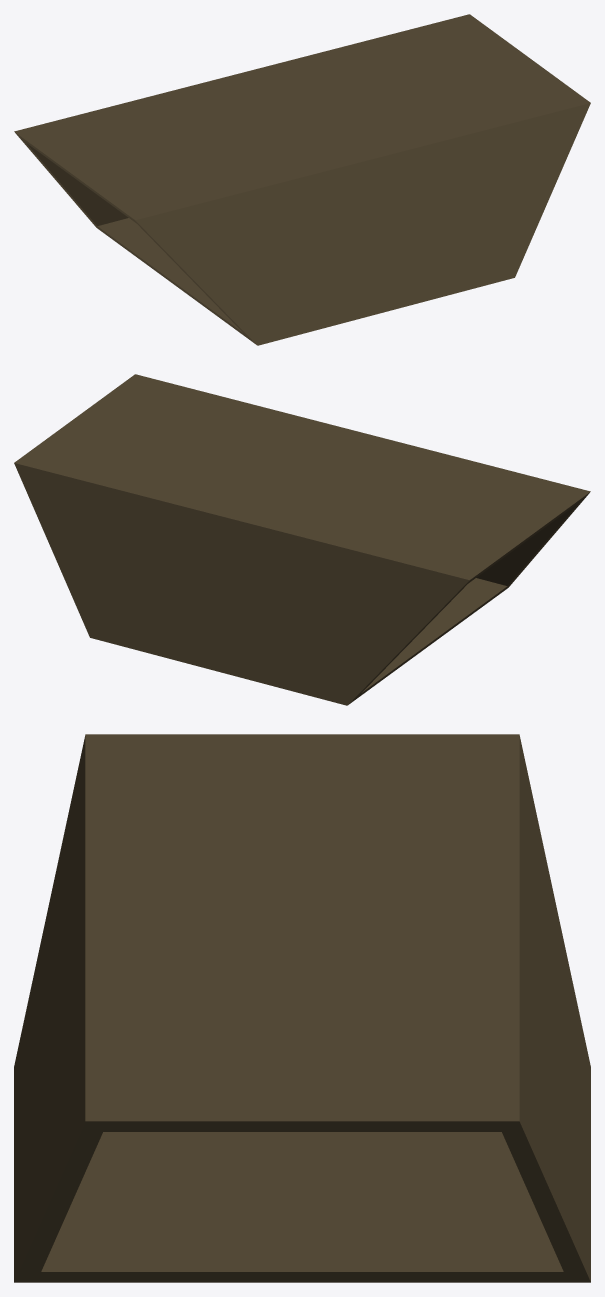
File: hidden0-2-2.FBX
3 renders of one model, top to bottom at view 1: azimuth 30°, elevation 25°; view 2: azimuth 150°, elevation 25°; view 3: azimuth 270°, elevation 25°, orthographic. The views are drawn at different scales.
Visible parts, largest first — view 1: hiddenmap0-2-2; view 2: hiddenmap0-2-2; view 3: hiddenmap0-2-2.
Boxes of the visible parts, bbox=[...] form: hiddenmap0-2-2: bbox=[14, 14, 590, 345]; hiddenmap0-2-2: bbox=[14, 374, 590, 705]; hiddenmap0-2-2: bbox=[14, 734, 590, 1282].
Size of the model in its own units: 85.66 by 52.48 by 25.52.
